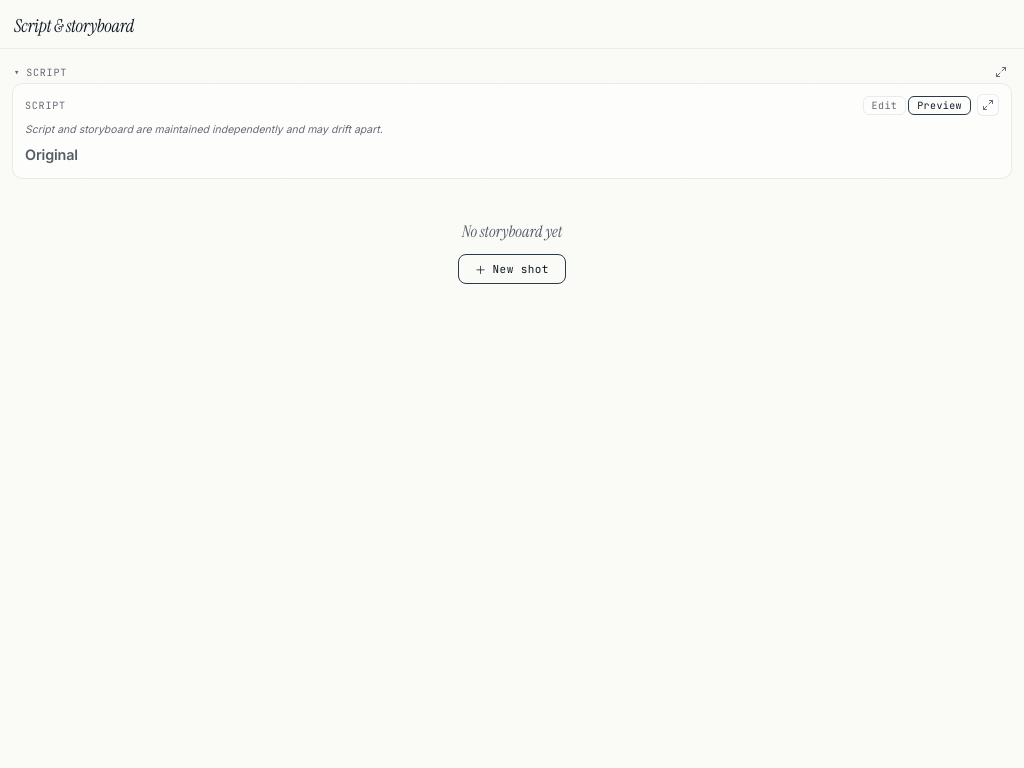
it: ScriptModal (A4) — sync with the inline ScriptTab panel › editing in the modal → save → close reflows the inline panel preview + the shared store
expect the heading "Original" is shown: met, box [25, 146, 78, 163]
# Open the full-screen modal from the panel.
Step 1. Click the button named "Open full screen" → (988, 105), box [977, 94, 999, 116]
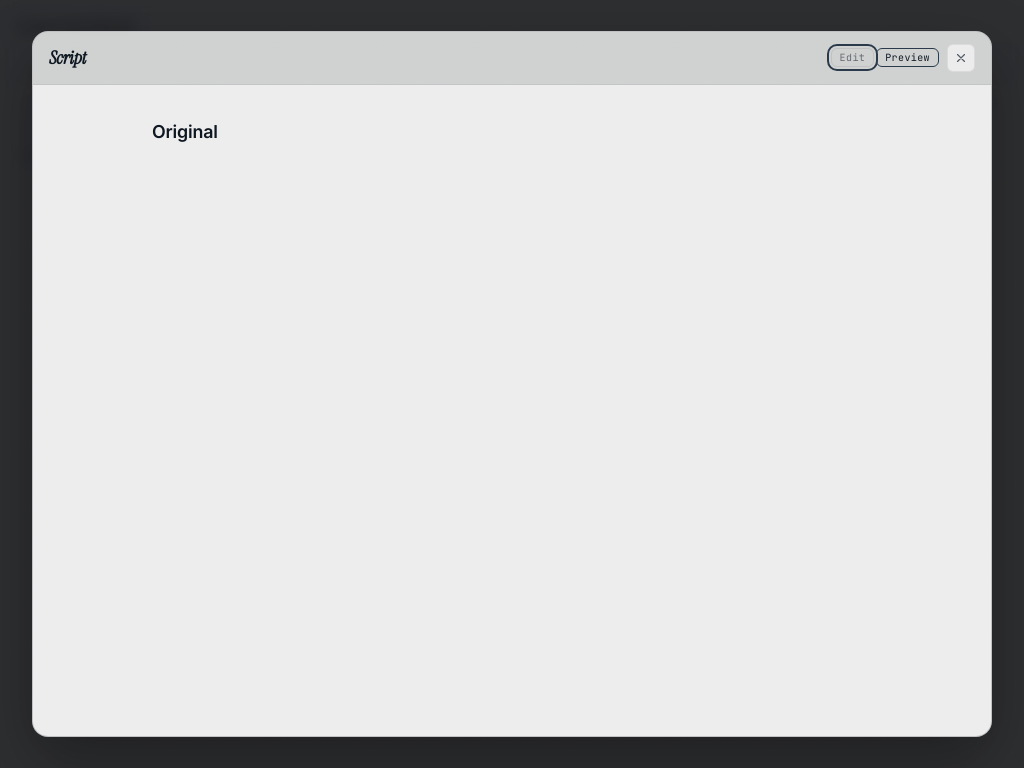
# Rewrite the script inside the modal (edit → type → blur commit).
Step 2. Click the button "Edit" → (852, 58), box [831, 48, 874, 67]
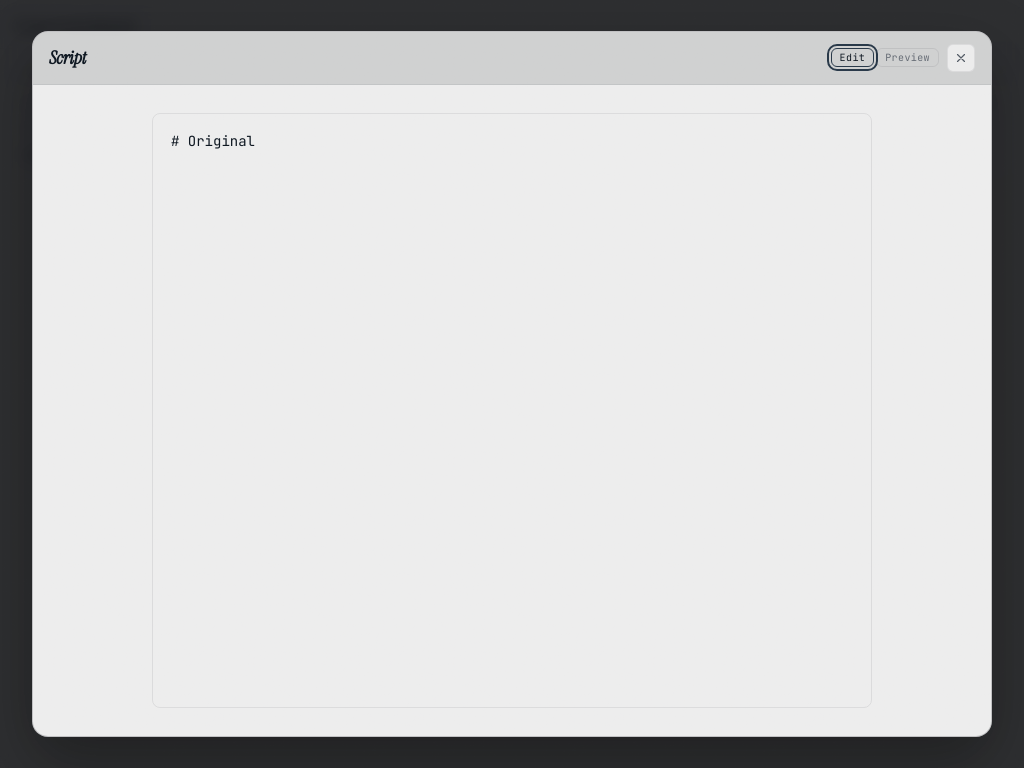
Step 3. Replace the text in the text box named "Edit script" with "# Rewritten" → (512, 410), box [152, 113, 872, 708]
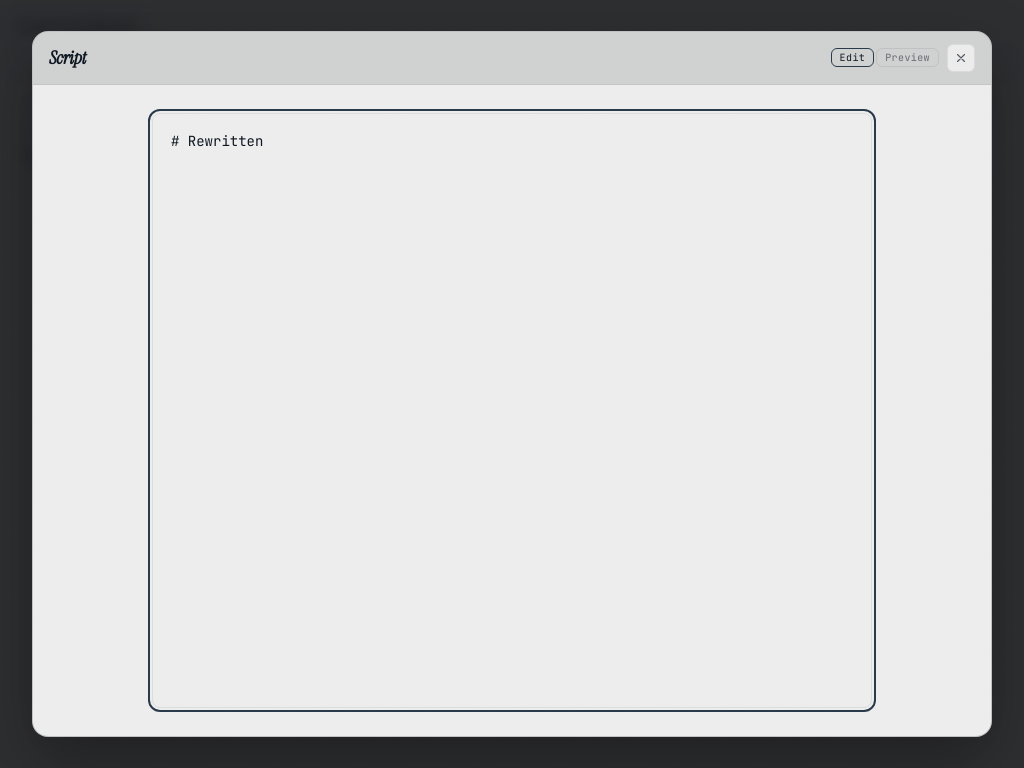
# Close the modal.
Step 4. Press Escape
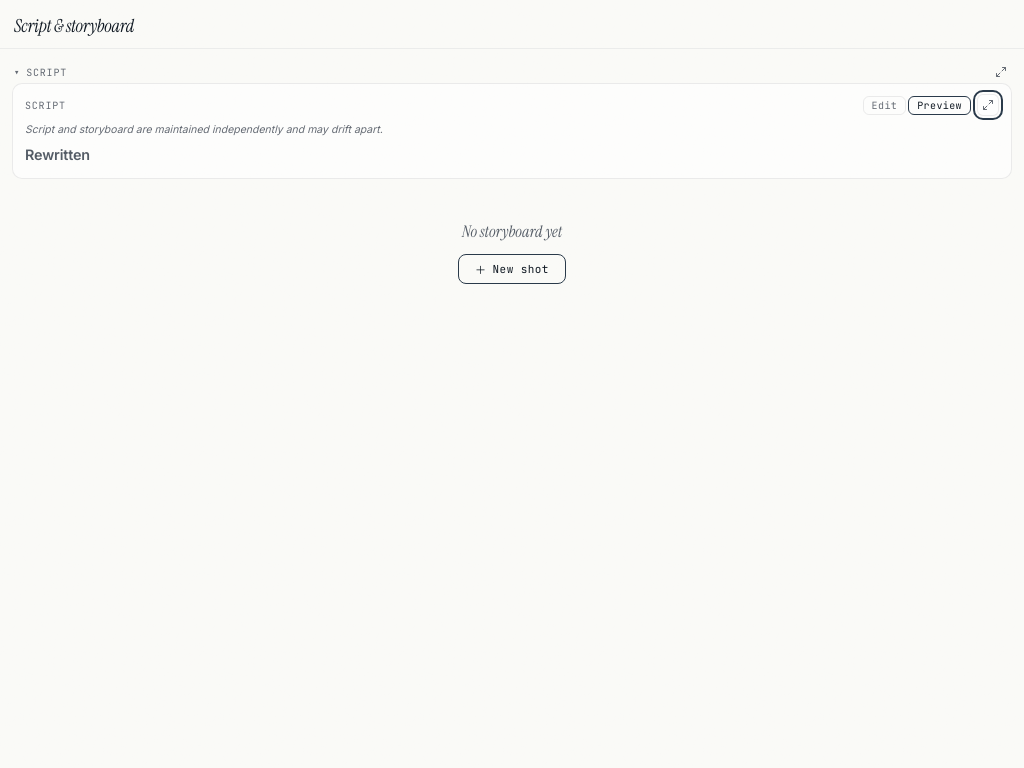
expect the heading "Rewritten" is shown: met, box [25, 146, 90, 163]
expect the dialog is gone: met
